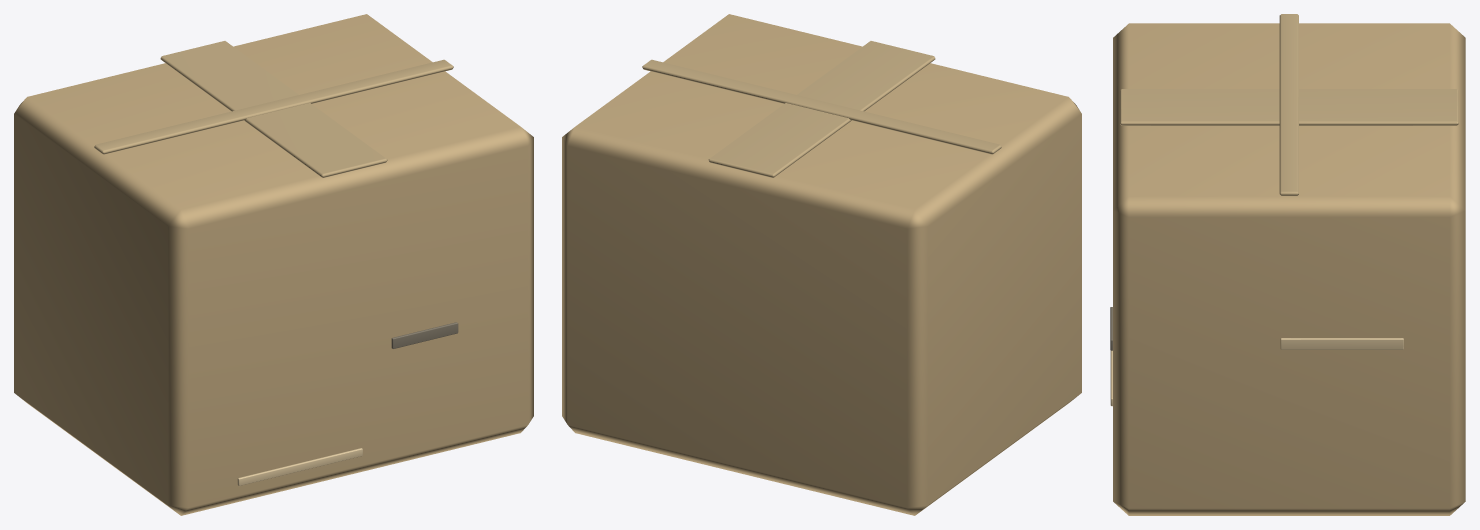
The model's file is Box_Medium_A.glb.
3 views of the same model, side by side, from view 1: azimuth 30°, elevation 25°; view 2: azimuth 150°, elevation 25°; view 3: azimuth 270°, elevation 25° (orthographic). The views are drawn at different scales.
Visible parts, largest first — view 1: Box_Medium_A_body, Box_Medium_A_top_tape_long, Box_Medium_A_top_tape_cross, Box_Medium_A_front_bottom_wear, Box_Medium_A_small_scuff; view 2: Box_Medium_A_body, Box_Medium_A_top_tape_long, Box_Medium_A_top_tape_cross; view 3: Box_Medium_A_body, Box_Medium_A_top_tape_long, Box_Medium_A_top_tape_cross, Box_Medium_A_side_edge_wear.
Part boxes in pixels (x1,y1,x2,y2): Box_Medium_A_body: (14, 14, 533, 515); Box_Medium_A_top_tape_long: (160, 41, 387, 177); Box_Medium_A_top_tape_cross: (94, 59, 453, 154); Box_Medium_A_front_bottom_wear: (237, 448, 362, 485); Box_Medium_A_small_scuff: (391, 322, 458, 348); Box_Medium_A_body: (562, 14, 1081, 515); Box_Medium_A_top_tape_long: (708, 41, 935, 177); Box_Medium_A_top_tape_cross: (642, 59, 1001, 154); Box_Medium_A_body: (1113, 23, 1465, 515); Box_Medium_A_top_tape_long: (1120, 89, 1458, 125); Box_Medium_A_top_tape_cross: (1279, 14, 1298, 196); Box_Medium_A_side_edge_wear: (1280, 338, 1403, 349).
Size of the model in its own units: 0.503 by 0.409 by 0.4032.
